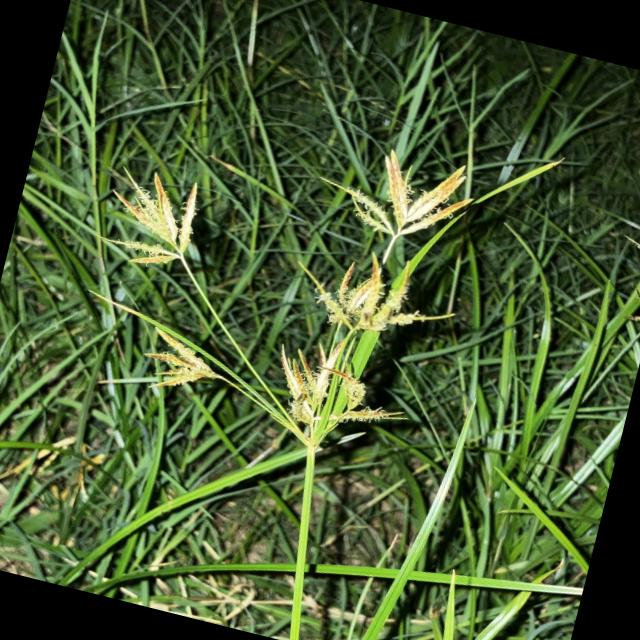cyperus: (57, 79, 487, 483), (311, 125, 486, 264), (282, 232, 463, 361), (254, 329, 423, 464), (68, 288, 238, 417), (88, 156, 216, 286), (603, 188, 640, 334)
